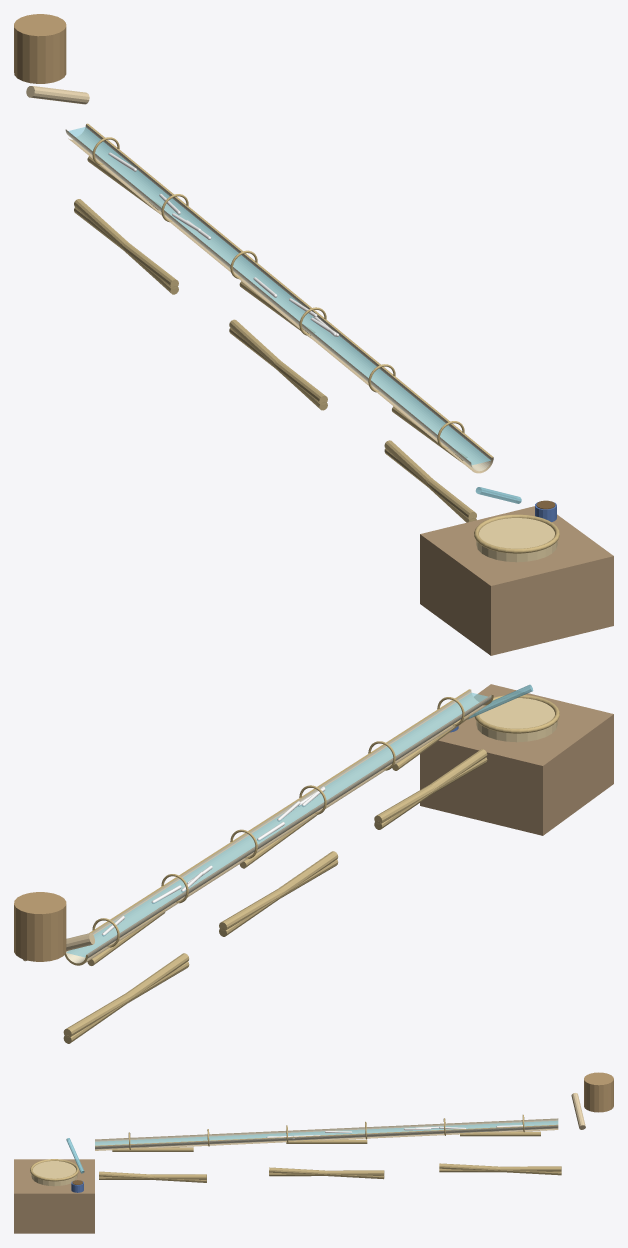
The model's file is nagashi-somen.glb.
3 renders of one model, top to bottom at view 1: azimuth 30°, elevation 25°; view 2: azimuth 150°, elevation 25°; view 3: azimuth 270°, elevation 25°, orthographic. The views are drawn at different scales.
Parts seen in each view (by area): view 1: stand, trough_inner, water, bucket, zaru, trough_outer, rim_20, zaru_rim, legA_0, legB_0, legA_1; view 2: stand, trough_inner, water, bucket, zaru, trough_outer, legB_0, legA_0, legB_1, legA_1, rim_20, legB_2 (+2 smaller); view 3: stand, trough_inner, water, trough_outer, bucket, zaru, rim_20, legA_0, legB_0, legA_1, legB_1, legB_2 (+6 smaller).
Part boxes in pixels (x1,y1,x2,y2): stand: (420, 506, 613, 655); trough_inner: (65, 124, 491, 471); water: (68, 127, 490, 464); bucket: (14, 14, 66, 83); zaru: (476, 518, 557, 562); trough_outer: (68, 138, 493, 473); rim_20: (86, 123, 493, 457); zaru_rim: (474, 514, 559, 553); legA_0: (74, 199, 178, 294); legB_0: (74, 207, 178, 288); legA_1: (229, 319, 327, 410); stand: (420, 684, 613, 835); trough_inner: (66, 690, 491, 963); water: (66, 693, 487, 957); bucket: (14, 892, 66, 961); zaru: (476, 698, 557, 742); trough_outer: (85, 705, 487, 962); legB_0: (63, 953, 189, 1043); legA_0: (63, 961, 189, 1037); legB_1: (219, 851, 338, 936); legA_1: (219, 859, 338, 931); rim_20: (89, 689, 470, 933); legB_2: (374, 749, 487, 829); stand: (14, 1159, 94, 1233); trough_inner: (95, 1119, 558, 1149); water: (95, 1120, 558, 1145); trough_outer: (95, 1118, 558, 1150); bucket: (584, 1072, 613, 1112); zaru: (31, 1161, 77, 1186); rim_20: (95, 1124, 557, 1146); legA_0: (439, 1166, 561, 1172); legB_0: (439, 1163, 561, 1175); legA_1: (269, 1170, 384, 1176); legB_1: (269, 1167, 384, 1179); legB_2: (99, 1171, 206, 1182).
Size of the model in its own units: 0.7 by 1.31 by 5.18.
